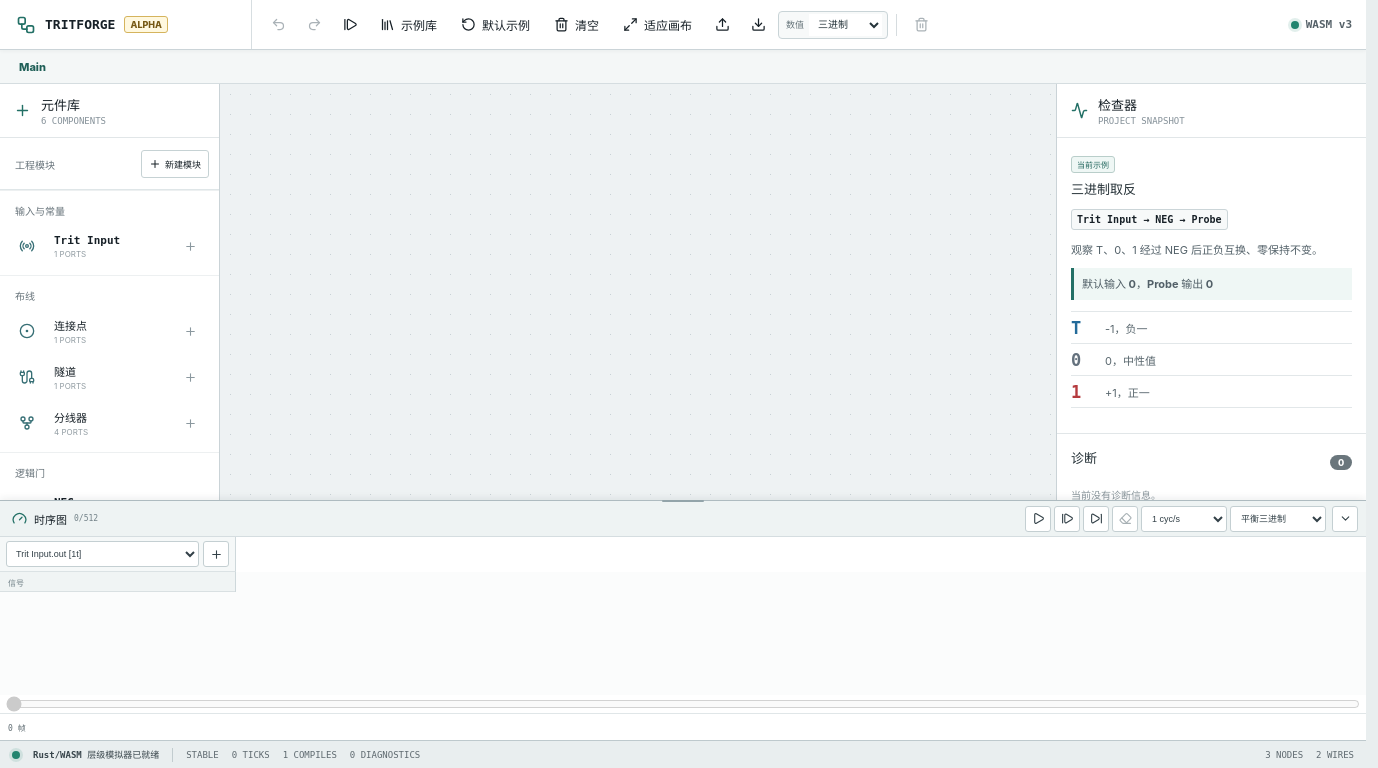
Test case: App › offers wiring helpers and renders Rust-resolved splitter ports
Expected: the text "Rust/WASM 层级模拟器已就绪" is shown, [33,748,159,761]
Expected: the button with aria-label "添加连接点" is shown, [10,310,209,352]
What coordinates should you click on to do the following:
click the button with aria-label "添加分线器"
I would click on:
 (110, 423)
Its box is [10,402,209,444].
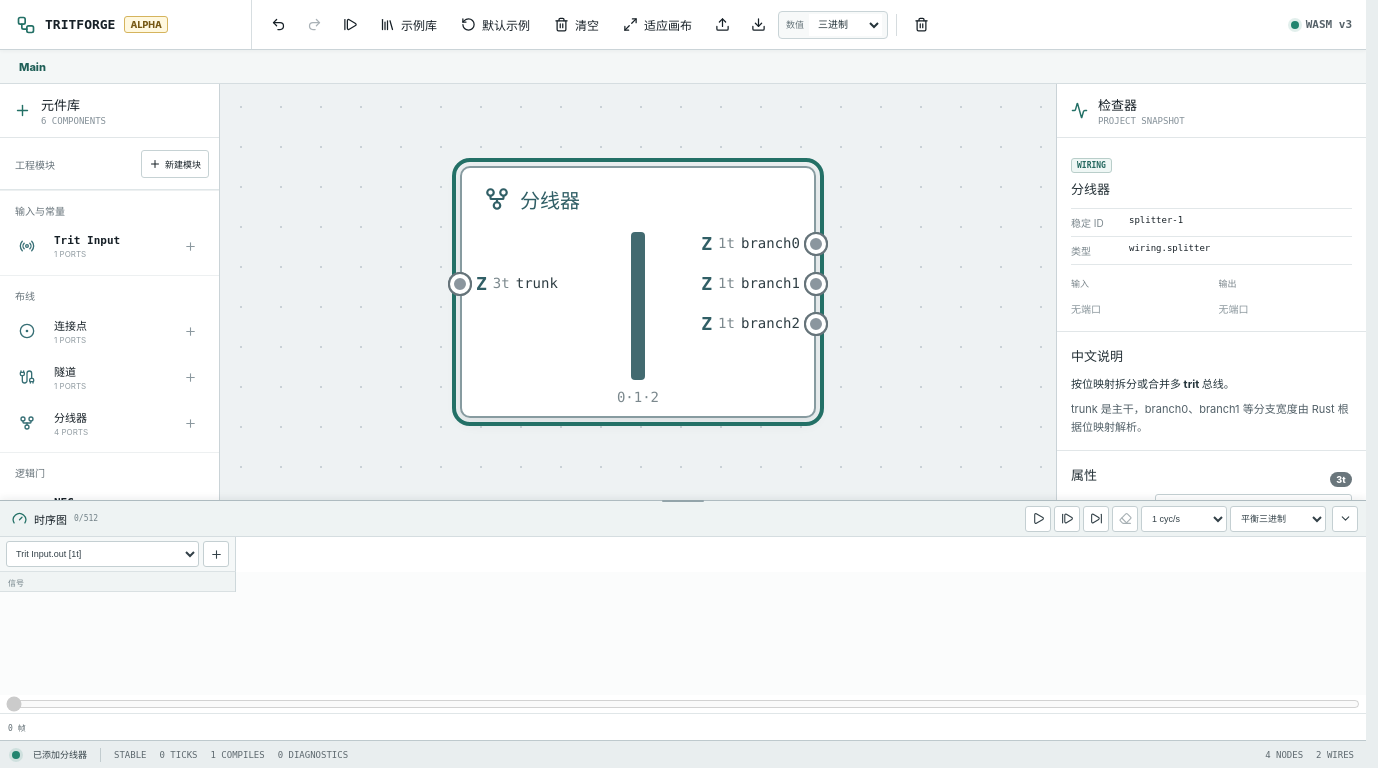
Expected: the element with test id "handle-splitter-1-output-branch2" is shown, [806,314,826,334]
